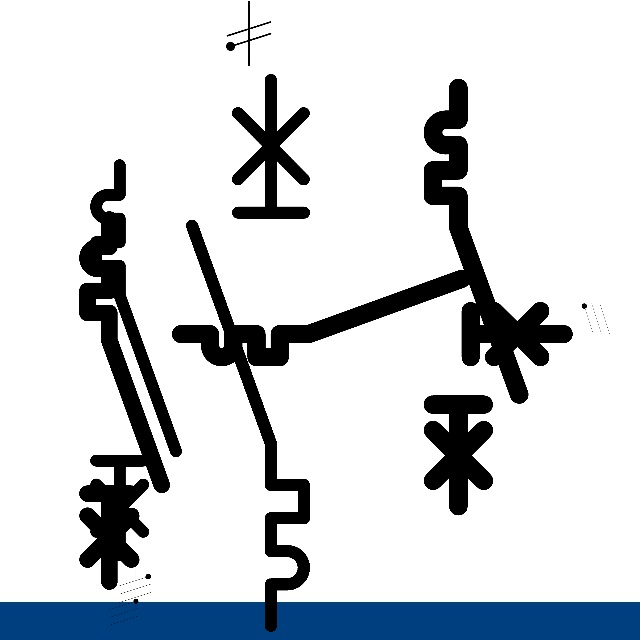interruptor_termomagnetico: (178, 65, 318, 639), (422, 77, 530, 517), (86, 155, 186, 566), (171, 269, 573, 367), (78, 210, 171, 591)
